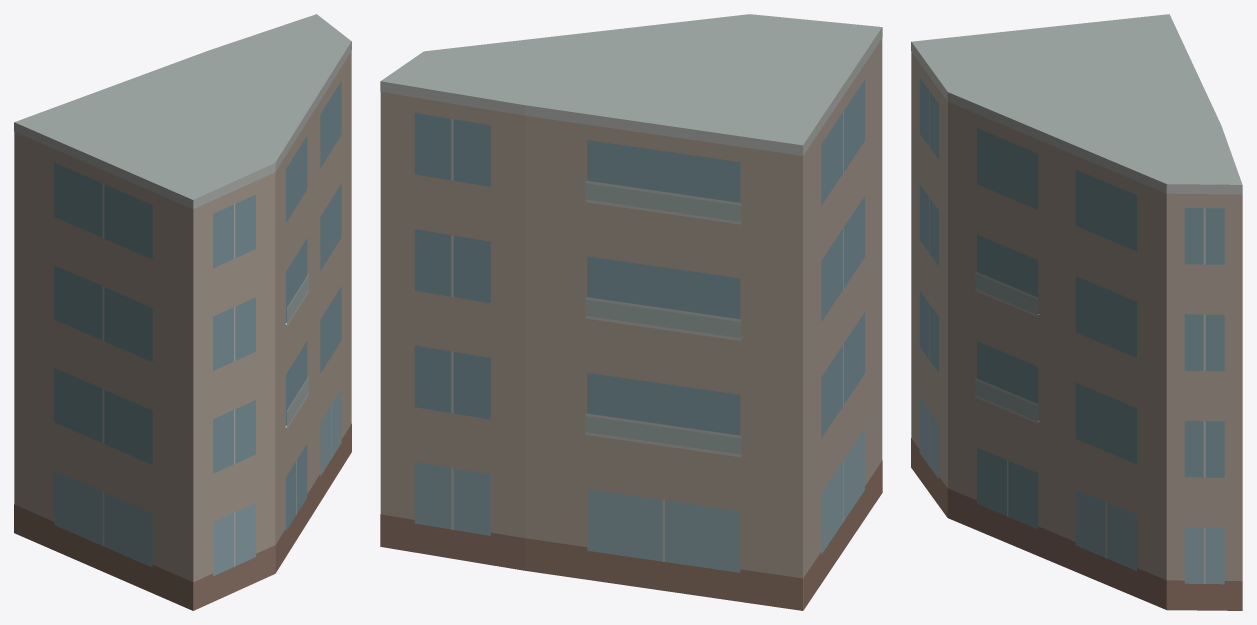
The model's file is survey-upis-32475577.glb.
3 renders of one model, left to right at view 1: azimuth 30°, elevation 25°; view 2: azimuth 150°, elevation 25°; view 3: azimuth 270°, elevation 25°, orthographic. The views are drawn at different scales.
Visible parts, largest first — view 1: survey-upis-32475577.tmp; view 2: survey-upis-32475577.tmp; view 3: survey-upis-32475577.tmp.
Part boxes in pixels (x1,y1,x2,y2): survey-upis-32475577.tmp: (14, 14, 351, 610); survey-upis-32475577.tmp: (380, 14, 882, 610); survey-upis-32475577.tmp: (911, 14, 1242, 610).
Size of the model in its own units: 9.3 by 10.8 by 7.63.
